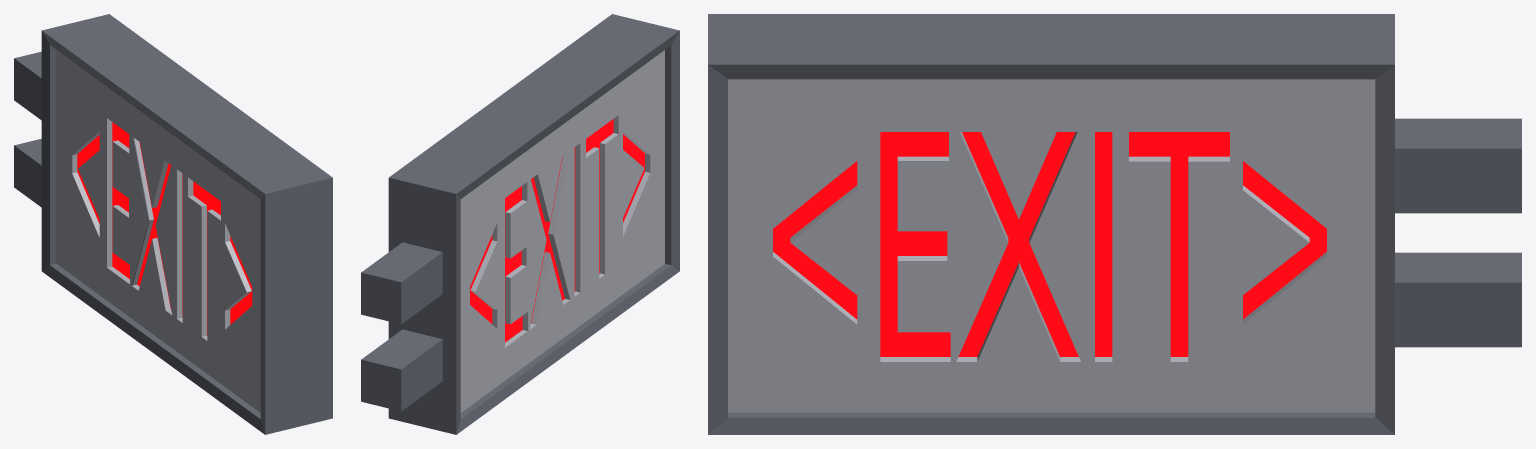
File: exit sign.fbx
The picture shows the model from 3 angles, left to right: view 1: azimuth 30°, elevation 25°; view 2: azimuth 150°, elevation 25°; view 3: azimuth 270°, elevation 25°; orthographic projection. The views are drawn at different scales.
Visible parts, largest first — view 1: Cube.003; view 2: Cube.003; view 3: Cube.003.
Part boxes in pixels (<box>): Cube.003: <box>14,14,332,434</box>; Cube.003: <box>361,14,679,434</box>; Cube.003: <box>708,14,1521,434</box>.
Bounding box in the file's own units: 64.31 × 219 × 436.
